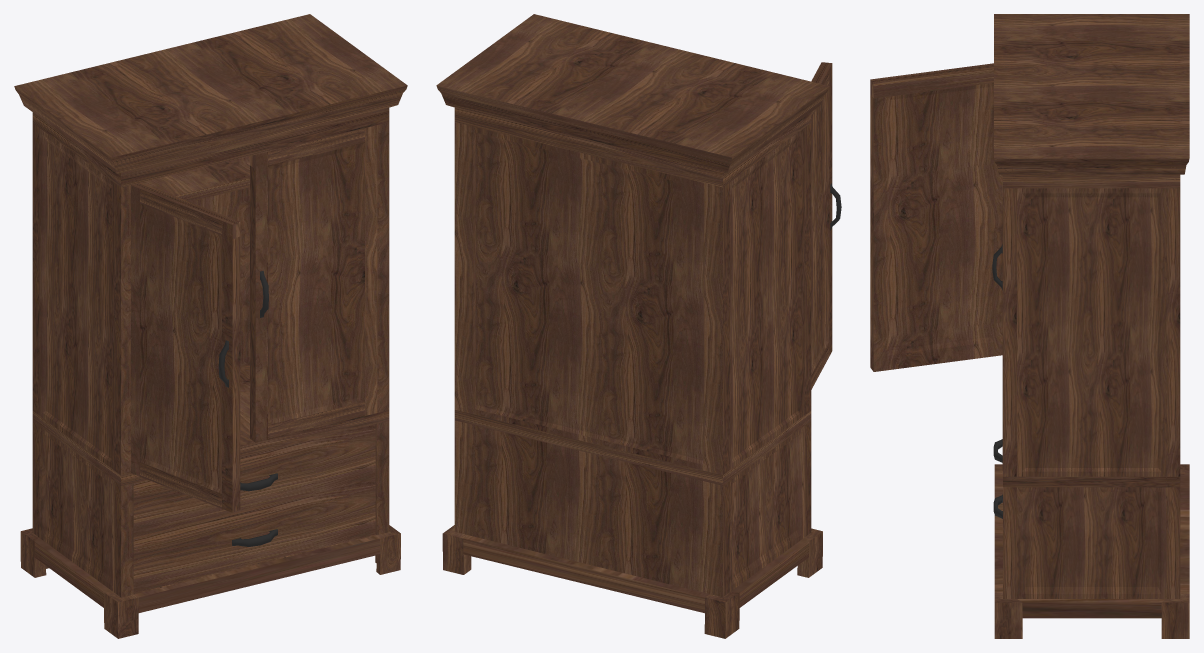
The model's file is wardrobe.glb.
The picture shows the model from 3 angles, left to right: view 1: azimuth 30°, elevation 25°; view 2: azimuth 150°, elevation 25°; view 3: azimuth 270°, elevation 25°; orthographic projection.
Visible parts, largest first — view 1: Wardrobe, Wardrobe Door Right.001, Wardrobe Door Left.001, Wardrobe Drawer 2.001, Wardrobe Drawer 2.002; view 2: Wardrobe, Wardrobe Door Left.001; view 3: Wardrobe, Wardrobe Door Left.001, Wardrobe Door Right.001.
Boxes of the visible parts, x1,y1,x2,y2 form: Wardrobe: [14, 14, 407, 638]; Wardrobe Door Right.001: [250, 125, 377, 442]; Wardrobe Door Left.001: [131, 183, 240, 512]; Wardrobe Drawer 2.001: [133, 478, 375, 593]; Wardrobe Drawer 2.002: [133, 424, 375, 537]; Wardrobe: [436, 14, 829, 638]; Wardrobe Door Left.001: [811, 62, 841, 389]; Wardrobe: [994, 14, 1189, 638]; Wardrobe Door Left.001: [870, 63, 1002, 371]; Wardrobe Door Right.001: [992, 175, 1002, 470].
Bounding box in the file's own units: 1.47 × 2.29 × 1.37.
Materials: 3 (1 with a texture image).
